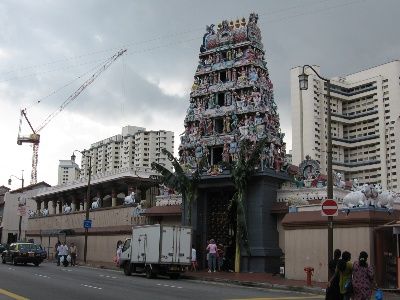gopura: (161, 24, 292, 173)
